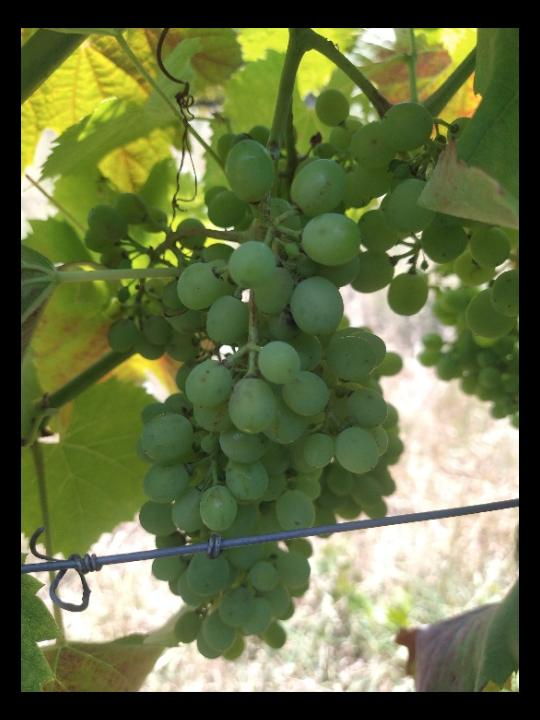grape: (78, 83, 512, 667)
